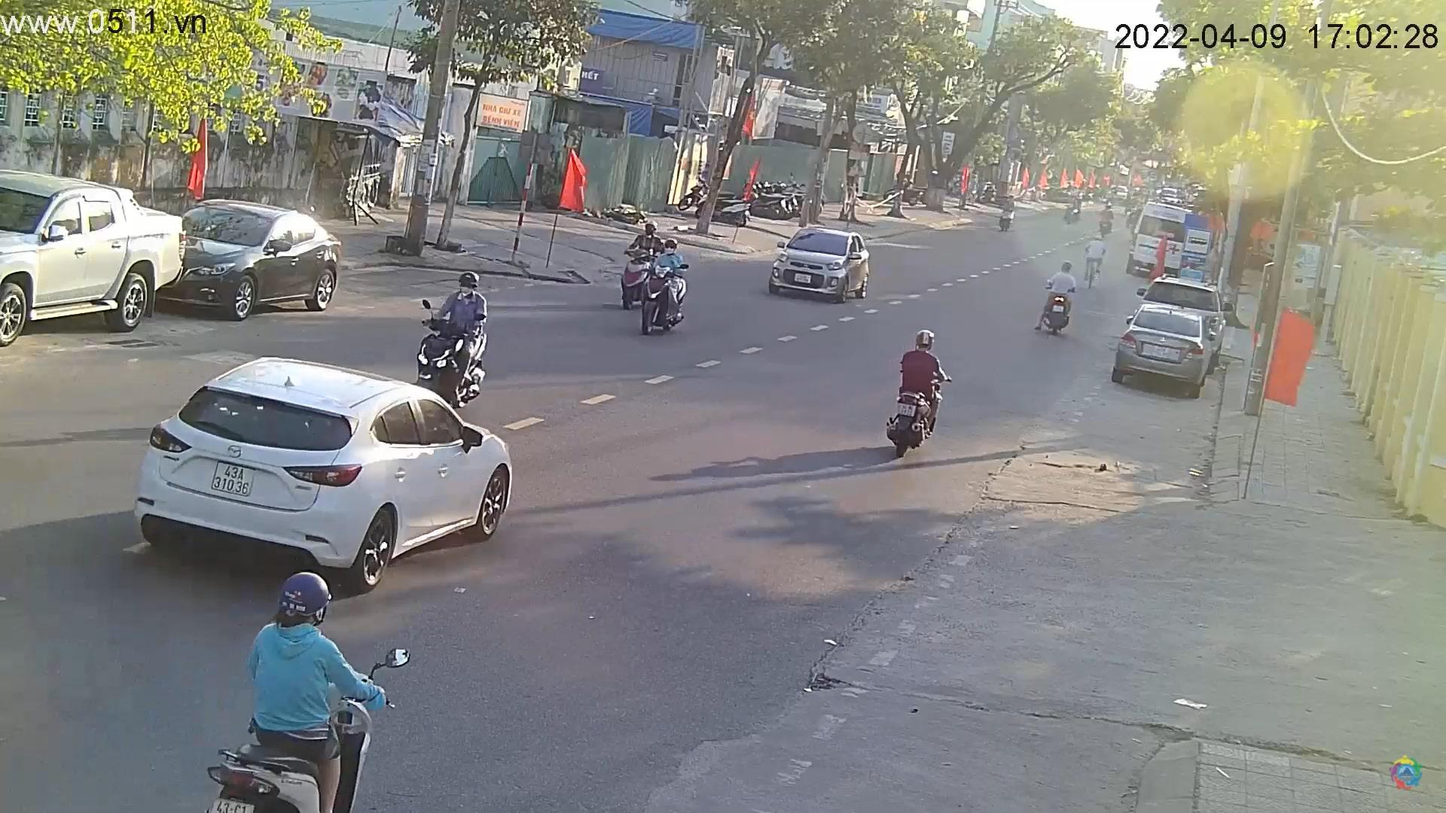car: (2, 168, 189, 349), (165, 202, 351, 323), (771, 227, 877, 301)
motorbike: (411, 300, 491, 414), (633, 252, 694, 342)
